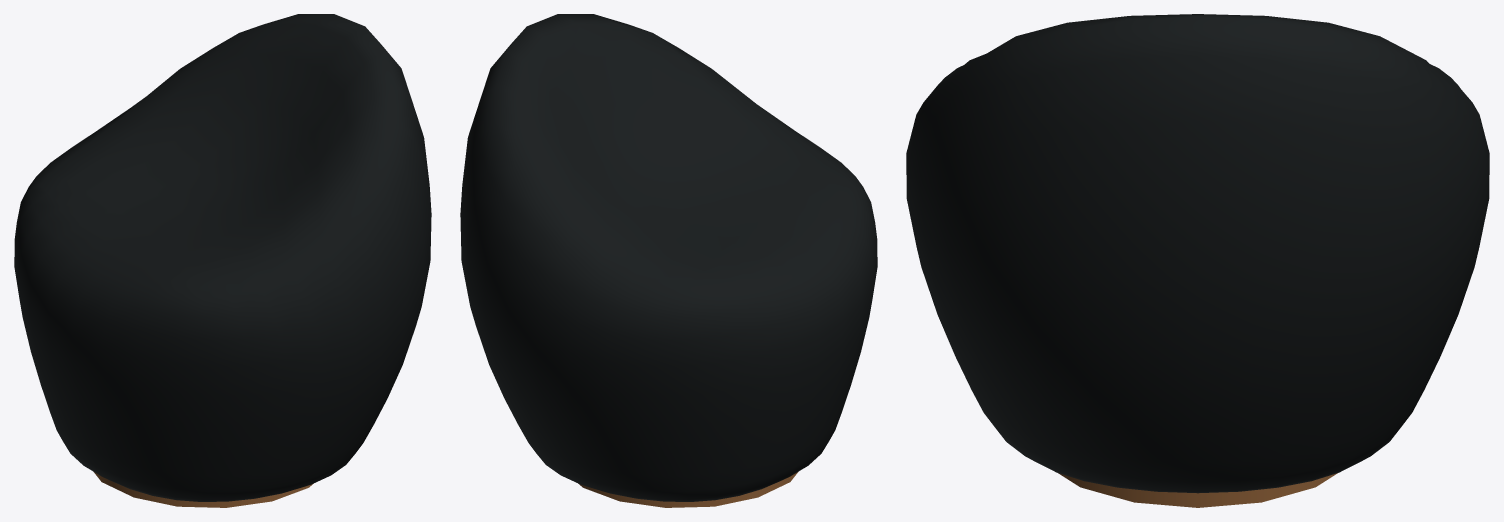
File: beanbag_03_black.fbx
The picture shows the model from 3 angles, left to right: view 1: azimuth 30°, elevation 25°; view 2: azimuth 150°, elevation 25°; view 3: azimuth 270°, elevation 25°; orthographic projection. The views are drawn at different scales.
Parts seen in each view (by area): view 1: beanbag_03_black; view 2: beanbag_03_black; view 3: beanbag_03_black.
Boxes of the visible parts, x1=… form: beanbag_03_black: x1=14, y1=14, x2=431, y2=507; beanbag_03_black: x1=460, y1=14, x2=877, y2=507; beanbag_03_black: x1=906, y1=14, x2=1489, y2=507.
Size of the model in its own units: 80.92 by 86.21 by 87.42.
2 materials, 2 textured.
